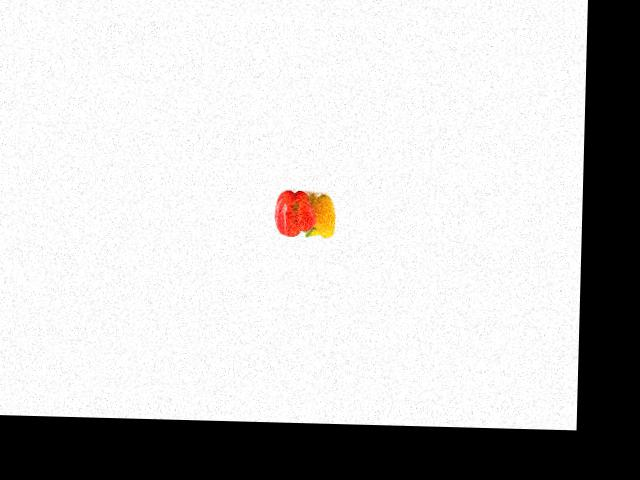bell_pepper: (299, 190, 337, 236)
